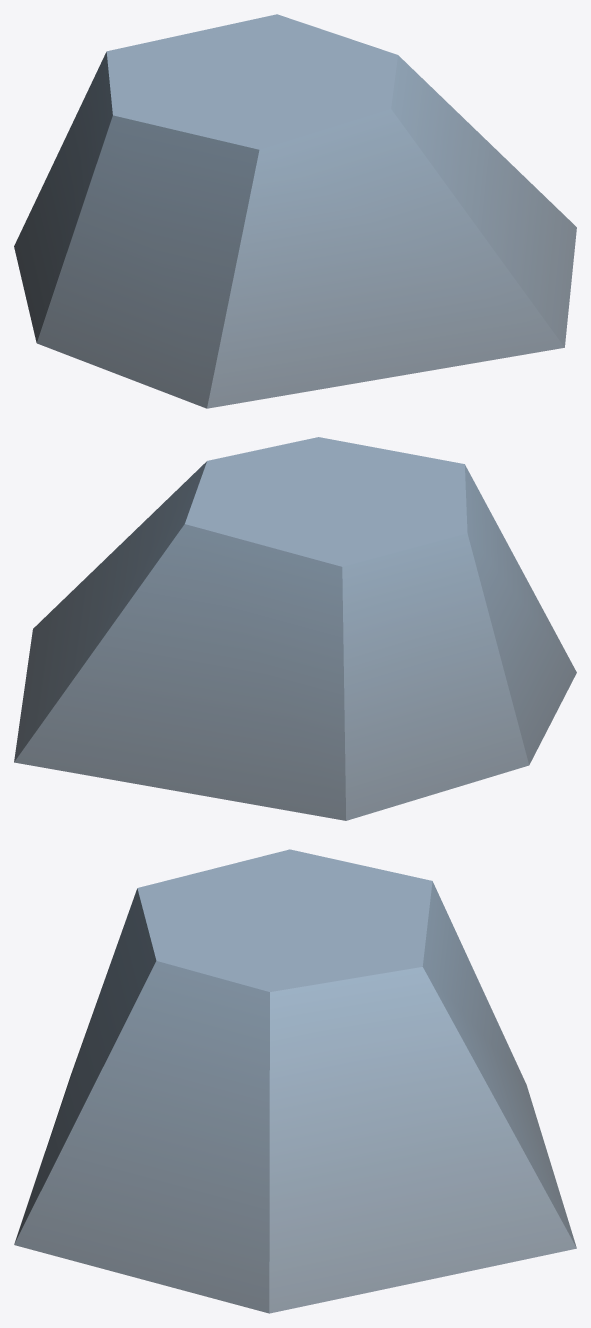
The picture shows the model from 3 angles, top to bottom: view 1: azimuth 30°, elevation 25°; view 2: azimuth 150°, elevation 25°; view 3: azimuth 270°, elevation 25°; orthographic projection. The views are drawn at different scales.
Visible parts, largest first — view 1: Cube.008; view 2: Cube.008; view 3: Cube.008.
Boxes of the visible parts, x1,y1,x2,y2 form: Cube.008: [14, 14, 576, 408]; Cube.008: [14, 437, 576, 820]; Cube.008: [14, 849, 576, 1313].
Bounding box in the file's own units: 0.8181 × 0.3218 × 0.7172.
